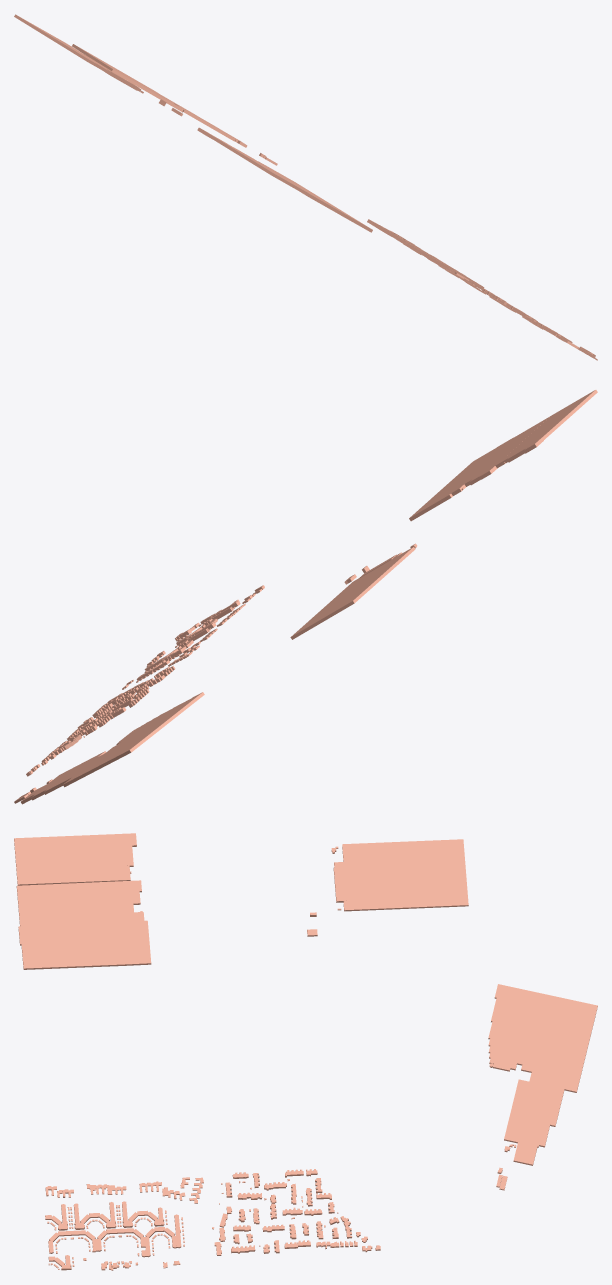
3 views of the same model, one above another, from view 1: azimuth 30°, elevation 25°; view 2: azimuth 150°, elevation 25°; view 3: azimuth 270°, elevation 25° (orthographic). The views are drawn at different scales.
Size of the model in its own units: 1009 by 758 by 1463.
